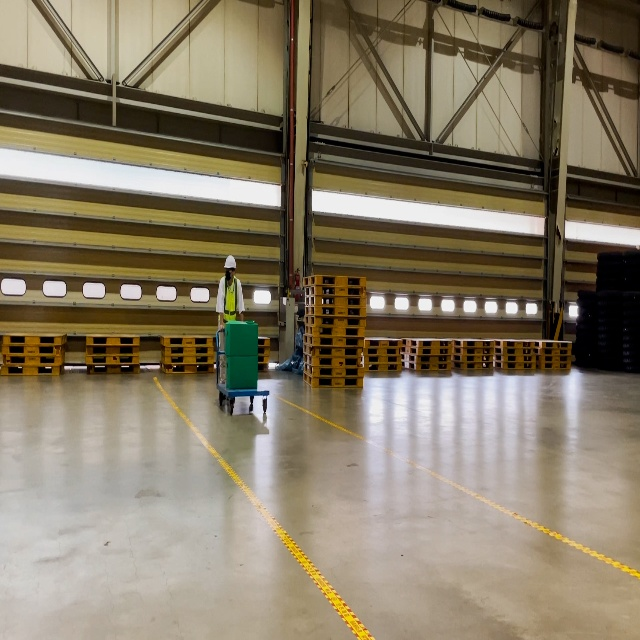Box: (225, 320, 258, 356), (226, 356, 258, 389)
Worker: (216, 254, 245, 402)
